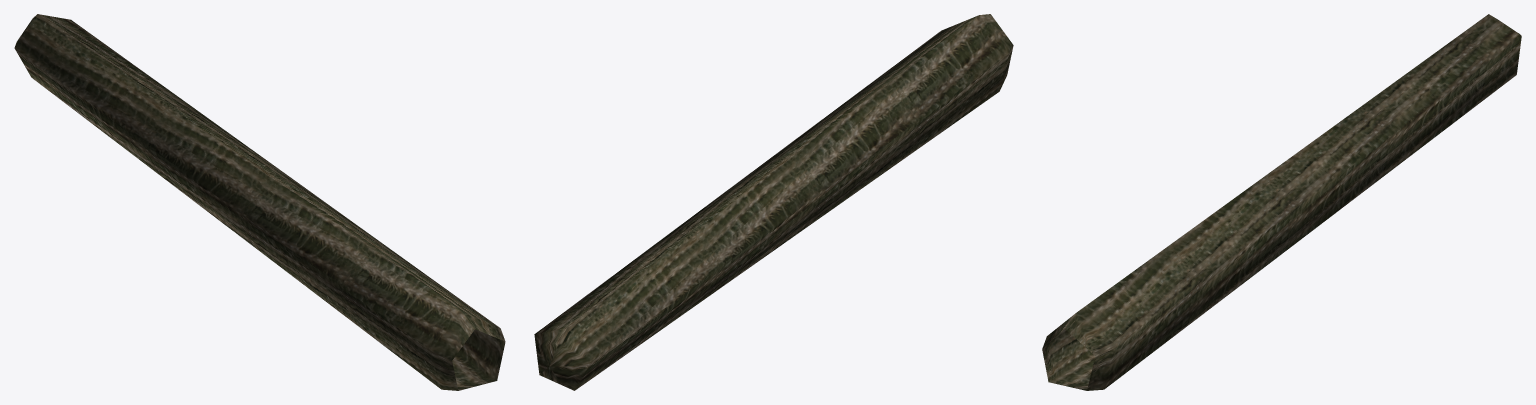
The model's file is MEP_Cactus_06.fbx.
3 views of the same model, side by side, from view 1: azimuth 30°, elevation 25°; view 2: azimuth 150°, elevation 25°; view 3: azimuth 330°, elevation 25° (orthographic).
Parts seen in each view (by area): view 1: MEP_Cactus_06; view 2: MEP_Cactus_06; view 3: MEP_Cactus_06.
Part boxes in pixels (bbox=[...]): MEP_Cactus_06: bbox=[14, 14, 505, 390]; MEP_Cactus_06: bbox=[534, 14, 1013, 390]; MEP_Cactus_06: bbox=[1042, 14, 1521, 390].
Size of the model in its own units: 0.5699 by 0.5746 by 6.42.
1 material, 1 textured.
